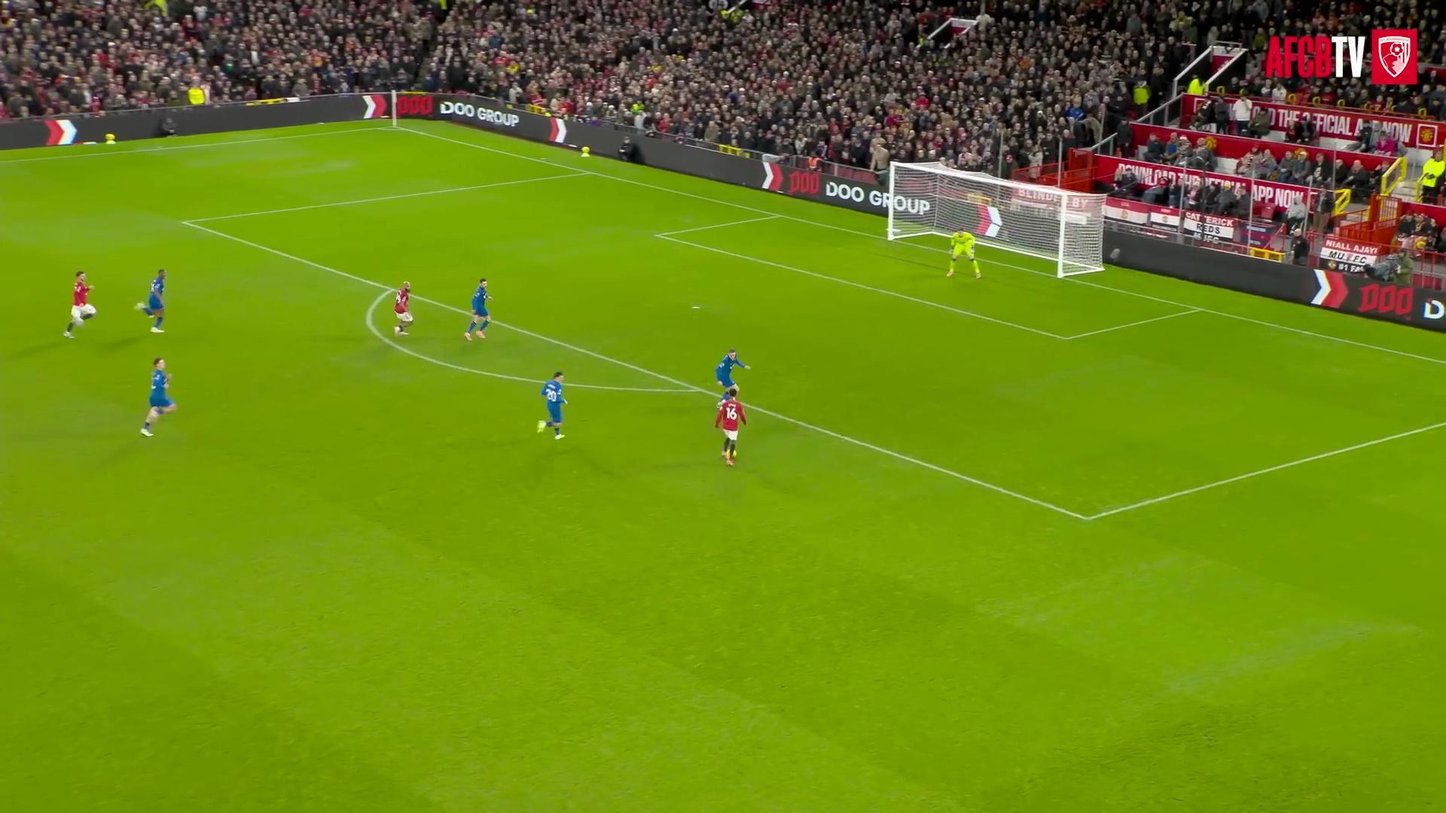player: (141, 358, 175, 436), (715, 388, 746, 465), (63, 272, 96, 338), (538, 372, 566, 439), (135, 269, 164, 333), (715, 349, 749, 403), (464, 278, 492, 340), (946, 230, 981, 278), (394, 282, 413, 336)
